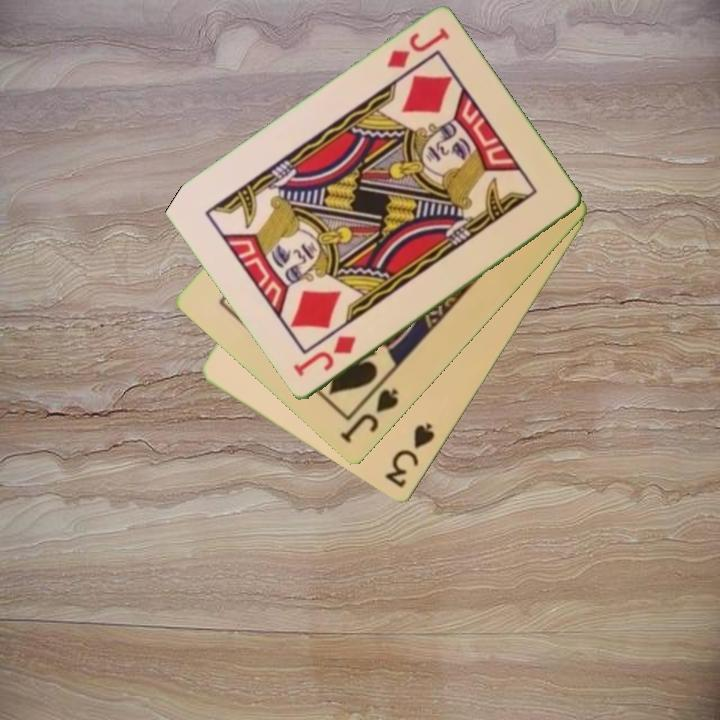3s: (381, 420, 438, 492)
Jd: (382, 24, 453, 72), (289, 332, 359, 380)
Js: (336, 385, 402, 447)
